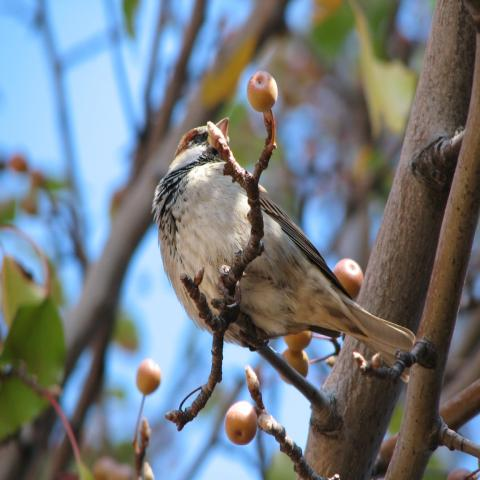bird: (150, 117, 419, 381)
